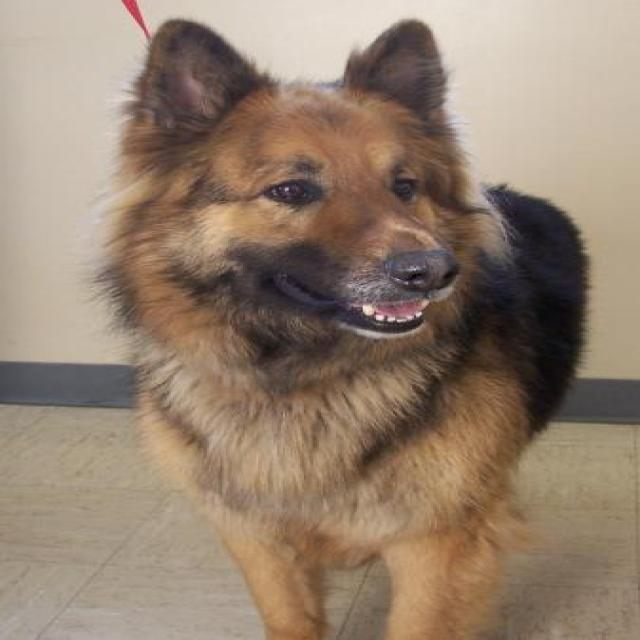Dogs: (85, 15, 592, 639)
